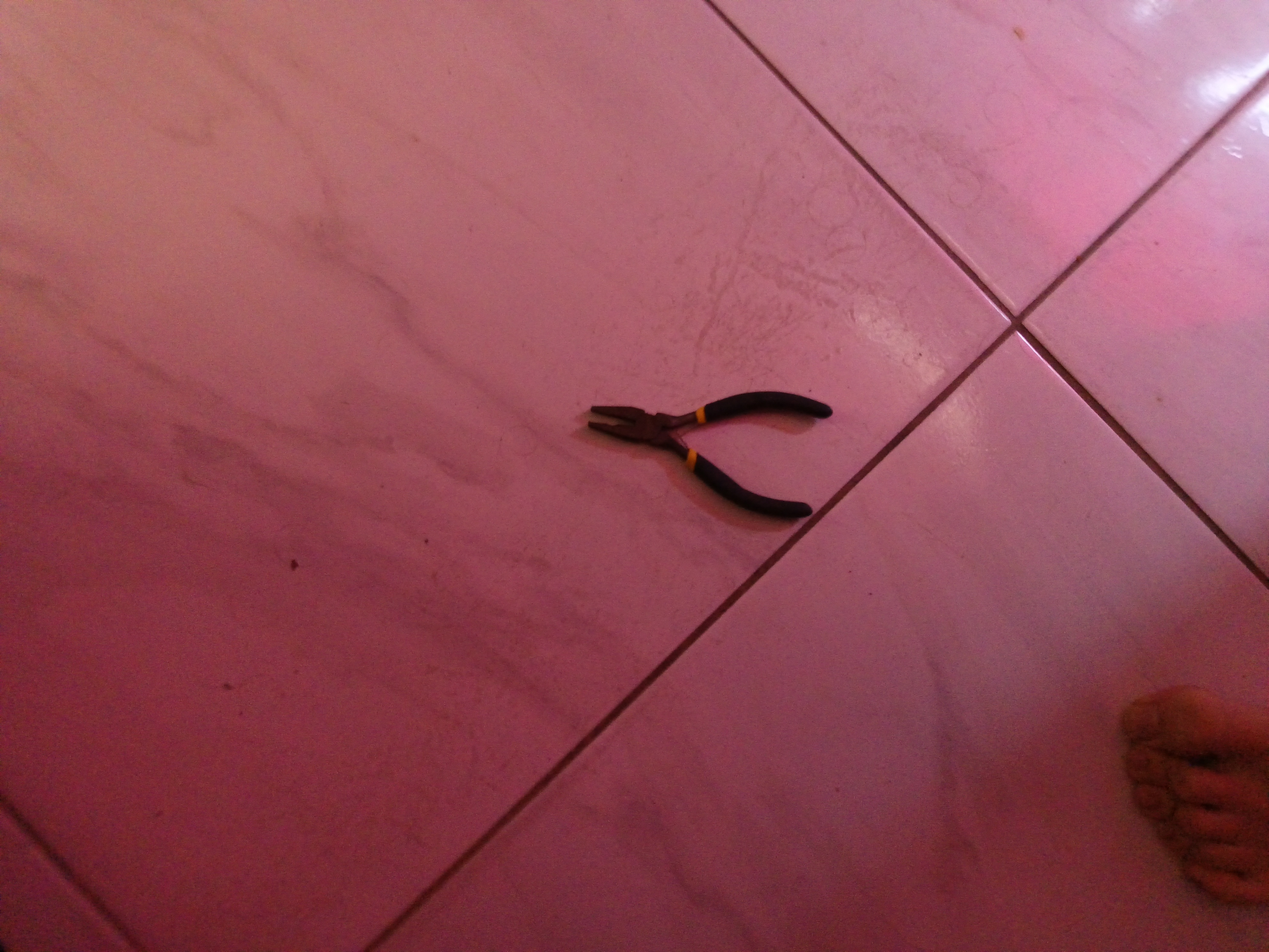Pinzas: (589, 391, 832, 517)
